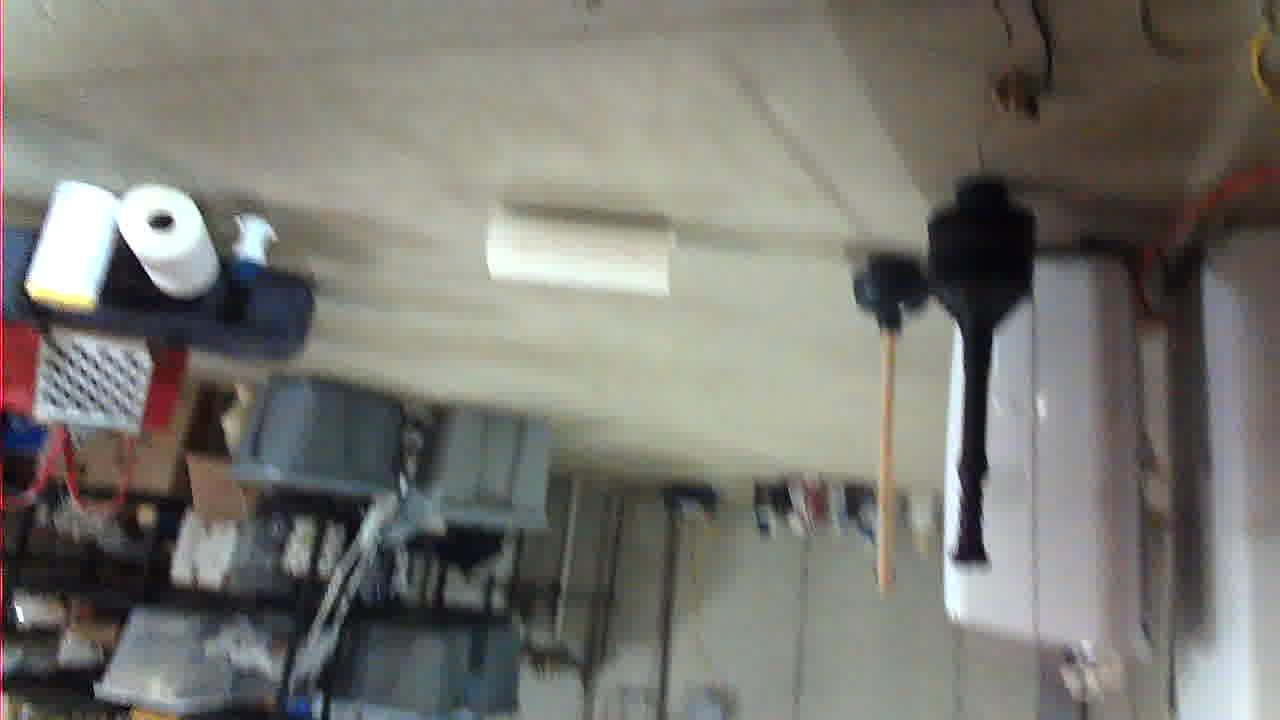coral: (606, 421, 793, 511)
